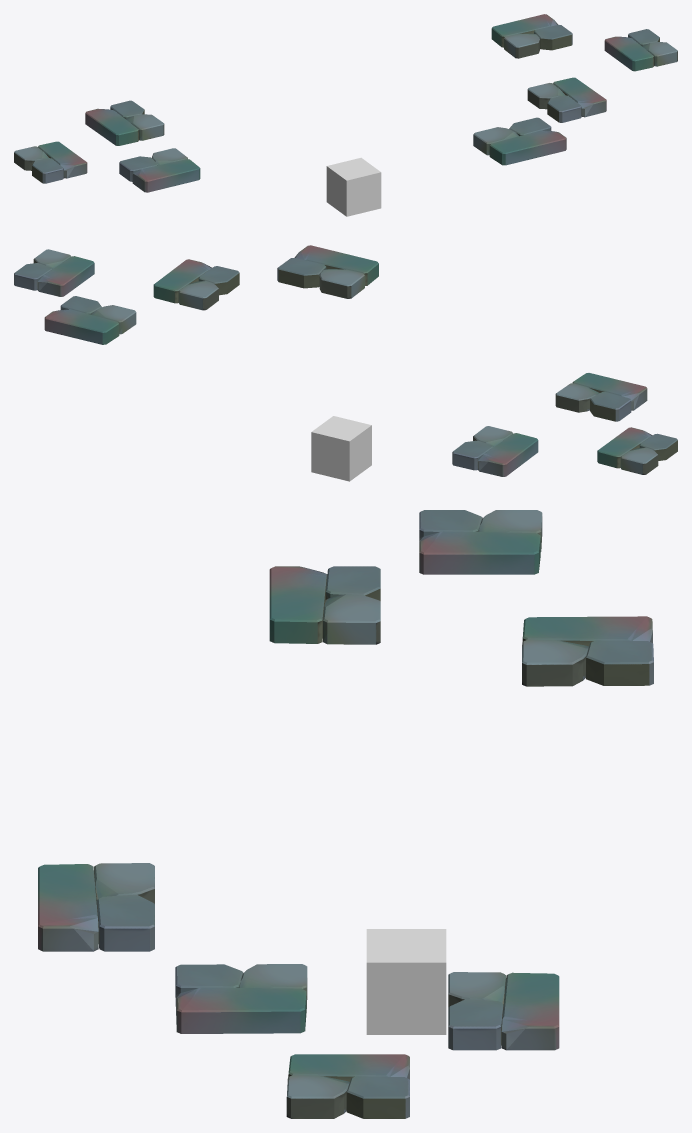
Rendered from battlescence-1-floor011.fbx.
The picture shows the model from 3 angles, top to bottom: view 1: azimuth 30°, elevation 25°; view 2: azimuth 150°, elevation 25°; view 3: azimuth 270°, elevation 25°; orthographic projection. The views are drawn at different scales.
Parts seen in each view (by area): view 1: Cube.037, battlescence-1-floor011, Cube.041, Cube.028, Cube.031, Cube.042, Cube.050, Cube.019; view 2: Cube.037, battlescence-1-floor011, Cube.041, Cube.028, Cube.042, Cube.031, Cube.019, Cube.050; view 3: Cube.037, Cube.031, Cube.042, Cube.028, Cube.041, battlescence-1-floor011, Cube.050, Cube.019.
Boxes of the visible parts, <box> form: Cube.037: <box>473,117,566,165</box>; battlescence-1-floor011: <box>326,157,381,216</box>; Cube.041: <box>119,148,200,192</box>; Cube.028: <box>491,14,572,58</box>; Cube.031: <box>527,77,606,122</box>; Cube.042: <box>85,100,164,145</box>; Cube.050: <box>14,141,87,183</box>; Cube.019: <box>604,29,677,71</box>; Cube.037: <box>277,245,378,298</box>; battlescence-1-floor011: <box>311,416,371,481</box>; Cube.041: <box>555,373,647,421</box>; Cube.028: <box>44,296,136,344</box>; Cube.042: <box>452,426,538,476</box>; Cube.031: <box>153,259,239,310</box>; Cube.019: <box>14,249,94,296</box>; Cube.050: <box>597,427,677,474</box>; Cube.037: <box>38,863,154,951</box>; Cube.031: <box>175,964,307,1033</box>; Cube.042: <box>522,616,653,686</box>; Cube.028: <box>448,972,559,1050</box>; Cube.041: <box>269,566,380,644</box>; battlescence-1-floor011: <box>366,929,446,1034</box>; Cube.050: <box>419,510,542,574</box>; Cube.019: <box>286,1054,409,1118</box>.
Bounding box in the file's own units: 2457 × 421 × 1088.
